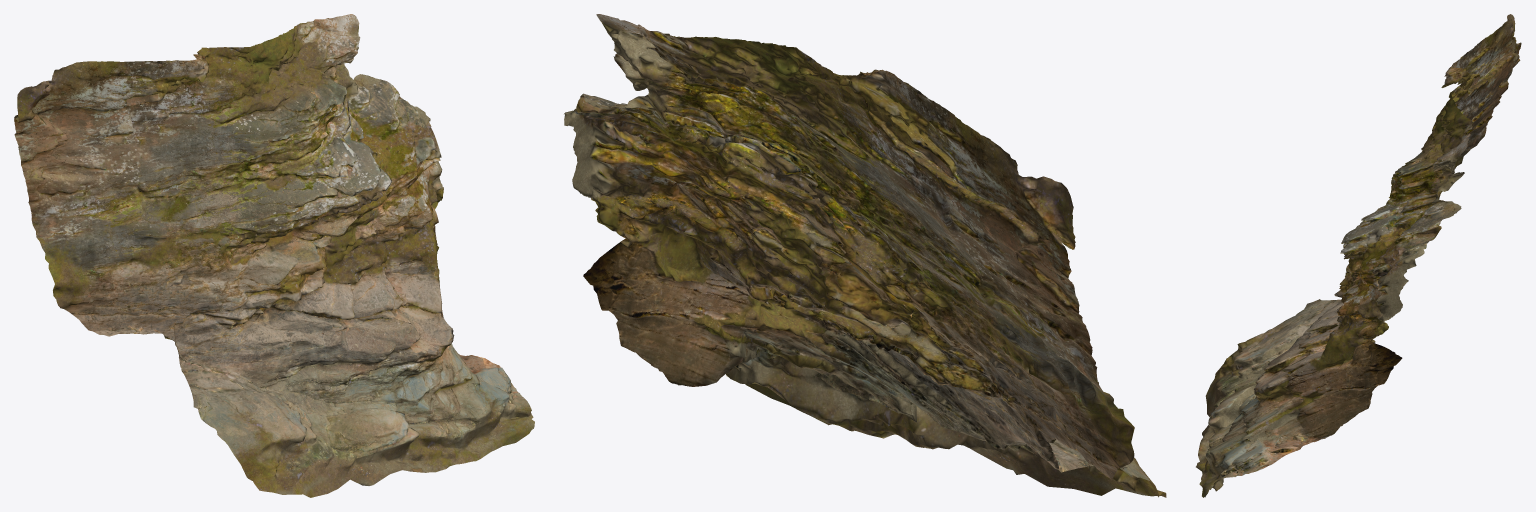
The model's file is rock_face_02.glb.
3 renders of one model, left to right at view 1: azimuth 30°, elevation 25°; view 2: azimuth 150°, elevation 25°; view 3: azimuth 270°, elevation 25°, orthographic. The views are drawn at different scales.
Parts seen in each view (by area): view 1: rock_face_02; view 2: rock_face_02; view 3: rock_face_02.
Boxes of the visible parts, x1,y1,x2,y2 form: rock_face_02: [14, 14, 534, 497]; rock_face_02: [564, 14, 1166, 497]; rock_face_02: [1196, 14, 1521, 497].
Size of the model in its own units: 2.71 by 2.47 by 2.13.
1 material, 1 textured.
